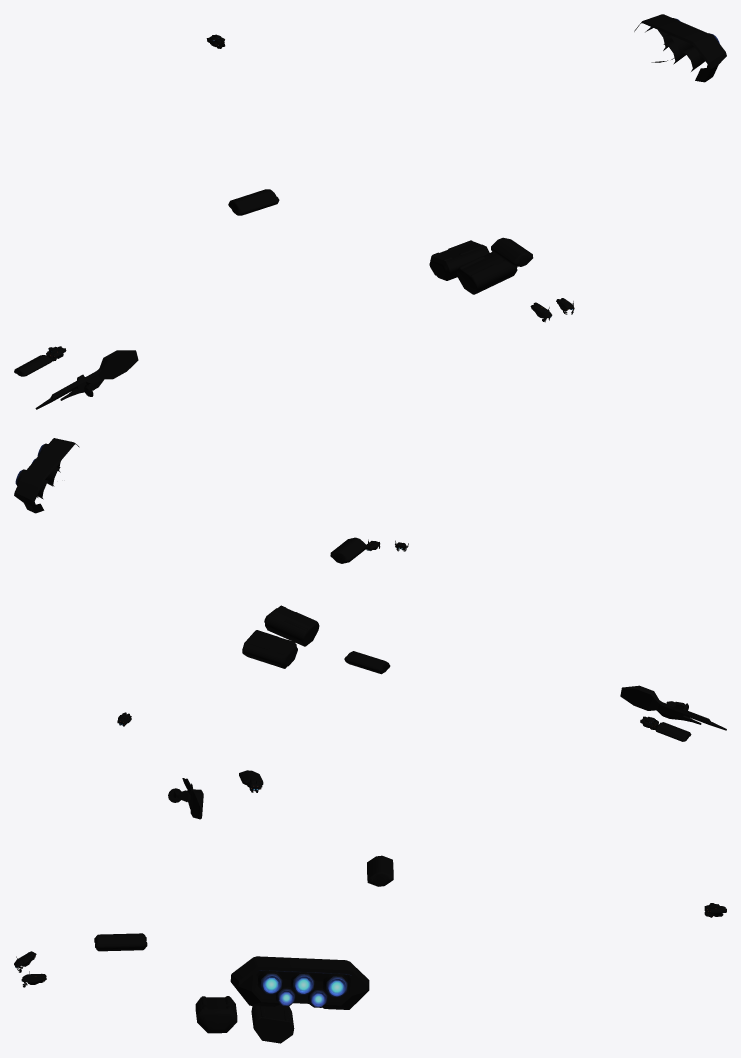
Rendered from MissionSequence_MA1_01.glb.
3 views of the same model, one above another, from view 1: azimuth 30°, elevation 25°; view 2: azimuth 150°, elevation 25°; view 3: azimuth 270°, elevation 25° (orthographic). The views are drawn at different scales.
Parts seen in each view (by area): view 1: carrier_01_engine_l, sensor_m_02, loot_container_04_a, loot_container_04, loot_container_02b, loot_container_02a; view 2: carrier_01_engine_l, sensor_m_02, loot_container_04, loot_container_04_a, loot_container_02b, loot_container_02a; view 3: carrier_01_engine_l, loot_container_04, loot_container_04_a, loot_container_02a, sensor_m_02, loot_container_02b.
Part boxes in pixels (x1=…): carrier_01_engine_l: x1=634, y1=14, x2=726, y2=82; sensor_m_02: x1=35, y1=350, x2=138, y2=409; loot_container_04_a: x1=456, y1=251, x2=517, y2=294; loot_container_04: x1=429, y1=240, x2=489, y2=280; loot_container_02b: x1=228, y1=189, x2=279, y2=215; loot_container_02a: x1=491, y1=237, x2=533, y2=266; carrier_01_engine_l: x1=14, y1=438, x2=79, y2=513; sensor_m_02: x1=620, y1=685, x2=726, y2=730; loot_container_04: x1=242, y1=630, x2=297, y2=668; loot_container_04_a: x1=264, y1=605, x2=319, y2=646; loot_container_02b: x1=344, y1=651, x2=390, y2=674; loot_container_02a: x1=330, y1=537, x2=366, y2=563; carrier_01_engine_l: x1=230, y1=956, x2=369, y2=1009; loot_container_04: x1=251, y1=1005, x2=294, y2=1043; loot_container_04_a: x1=195, y1=996, x2=237, y2=1033; loot_container_02a: x1=94, y1=933, x2=147, y2=951; sensor_m_02: x1=168, y1=778, x2=203, y2=819; loot_container_02b: x1=367, y1=855, x2=393, y2=886.
Size of what is drawn, in the model's own units: 15.79 by 3.86 by 12.38.
7 materials, 7 textured.
